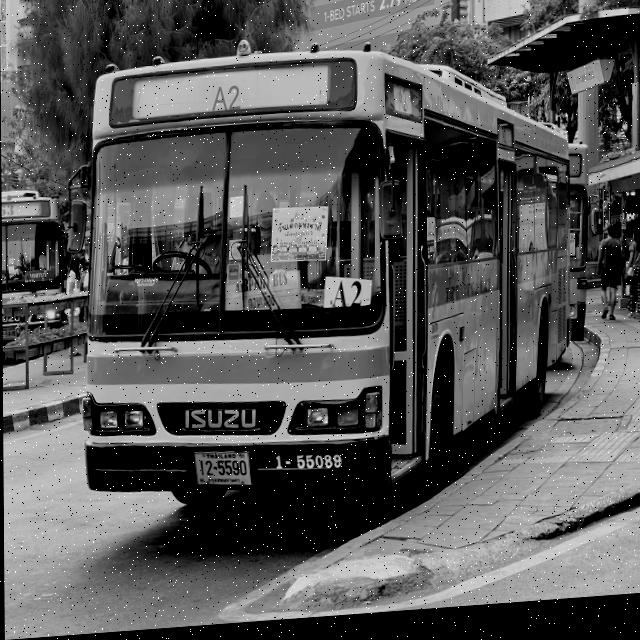BMTA-bus: (81, 55, 572, 512), (572, 150, 595, 352)
Bus Line Number: (199, 81, 254, 125)
Bus Side Number: (265, 446, 353, 487)
Destination Sign: (323, 277, 375, 316)
